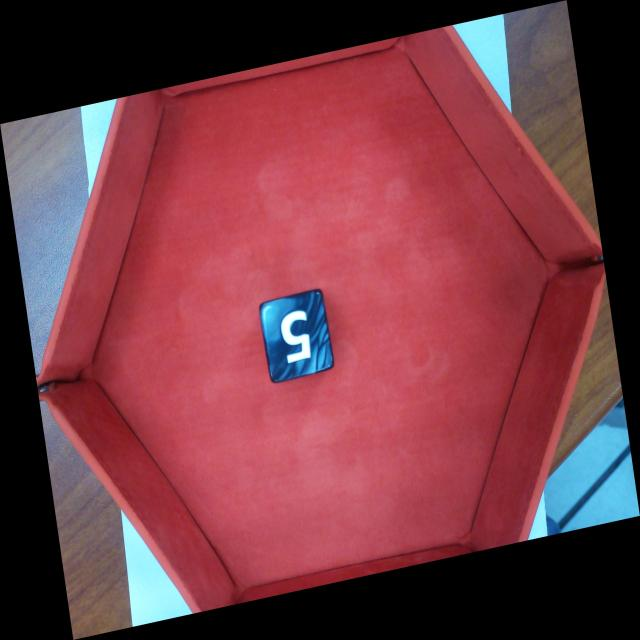dice: (261, 288, 337, 384)
